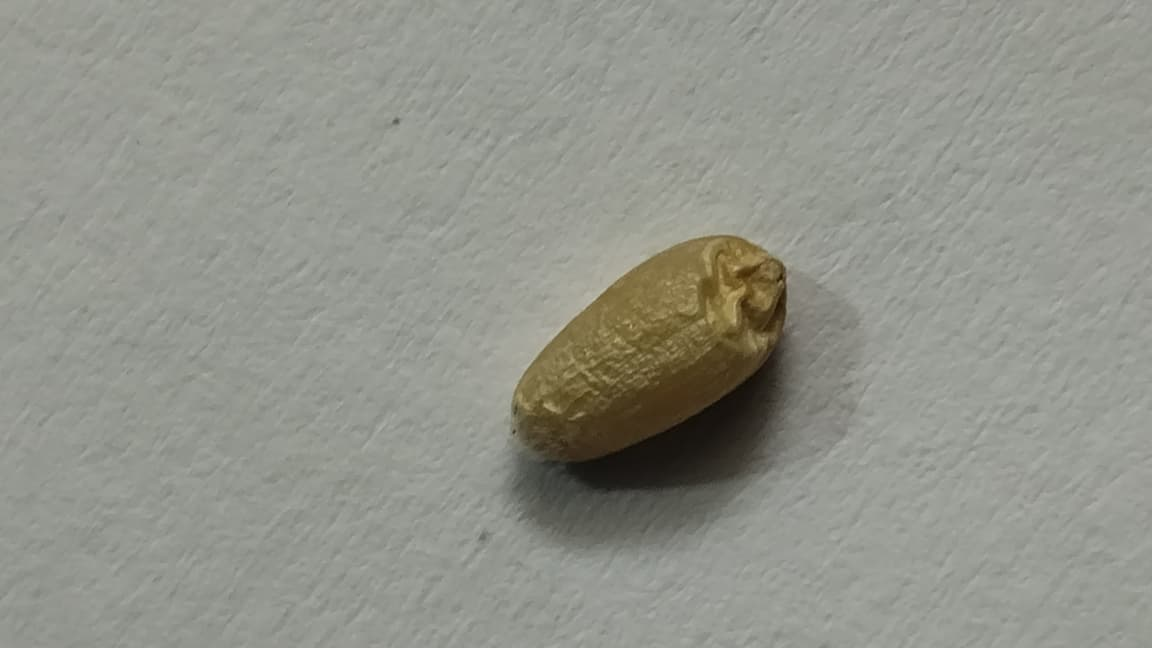healthy: (511, 233, 786, 462)
